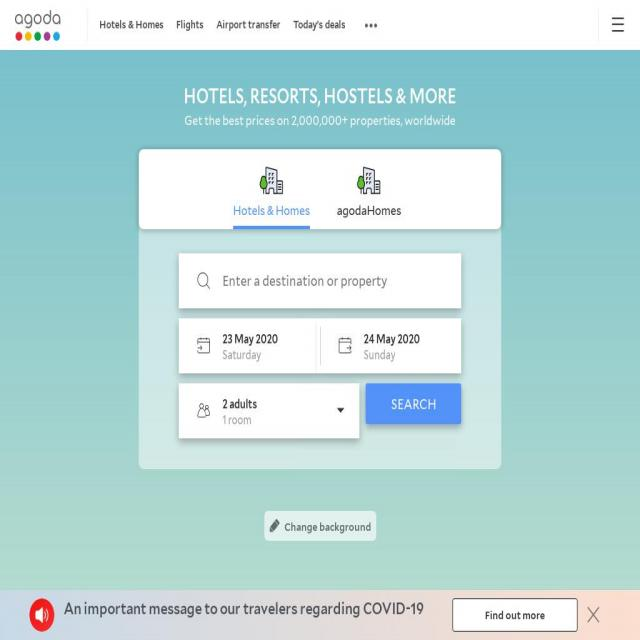navigation-links: (98, 10, 348, 33)
options: (598, 8, 632, 44), (359, 17, 381, 35)
search: (143, 155, 502, 465)
